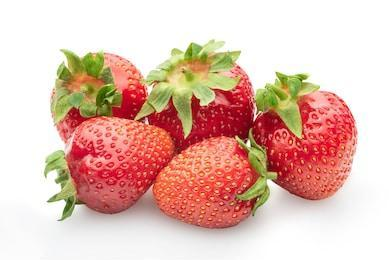Fresa: (247, 84, 364, 204), (62, 112, 178, 216), (144, 45, 258, 150), (150, 134, 269, 232), (46, 49, 154, 147)
